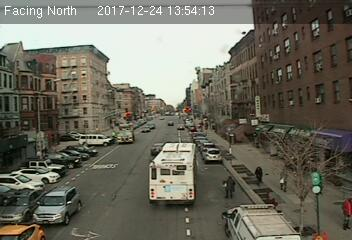bus: (146, 141, 197, 205)
car: (36, 184, 81, 225), (1, 185, 42, 222), (203, 147, 223, 163)
pedestrian: (221, 175, 236, 199)
truck: (221, 203, 303, 240), (116, 126, 133, 144)
